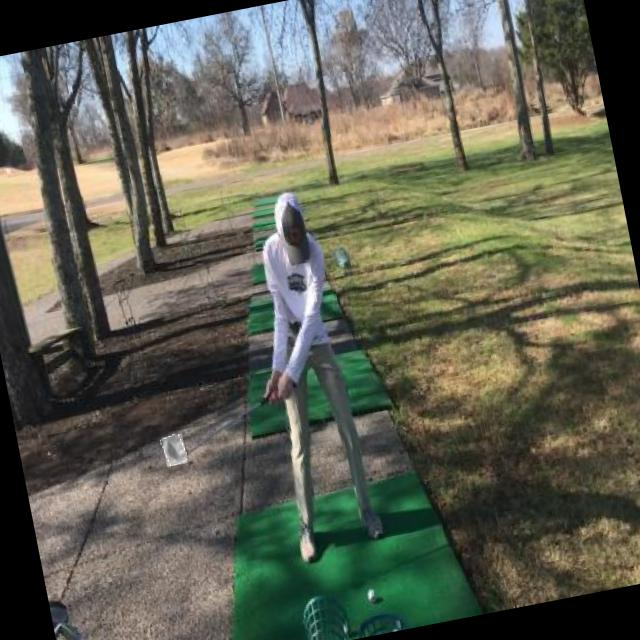club head: (162, 434, 188, 466)
